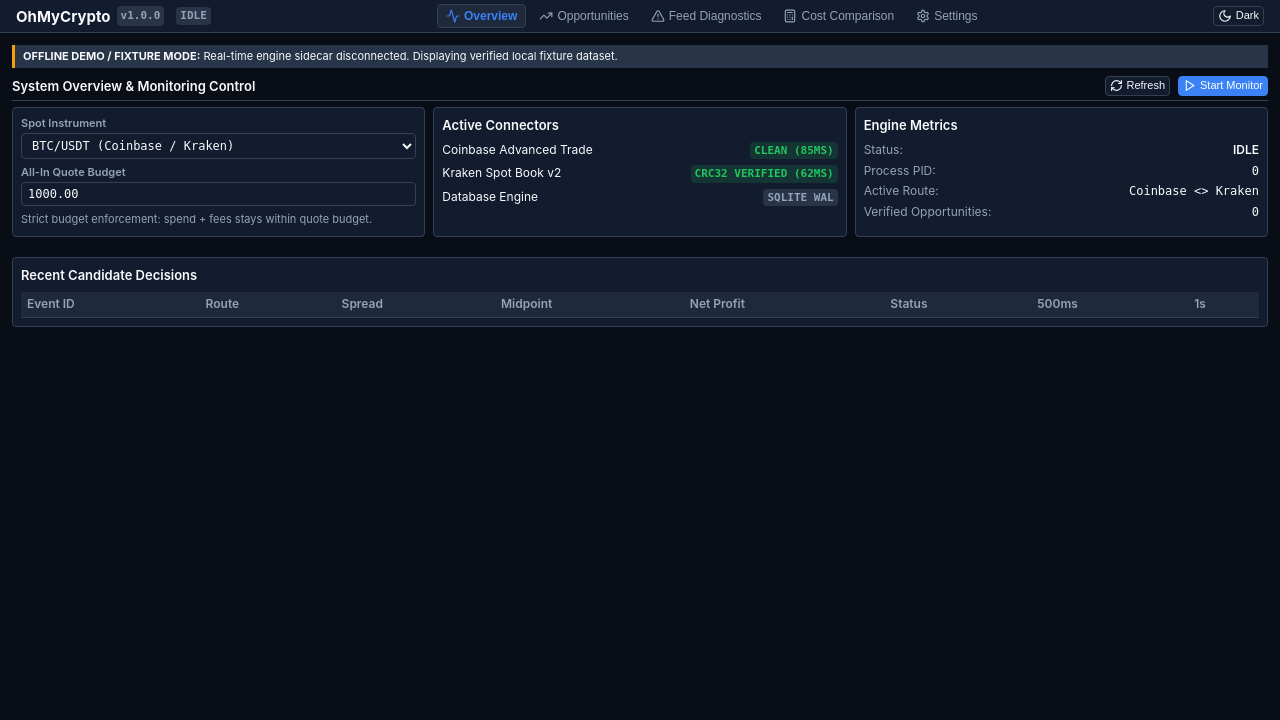
Test: OhMyCrypto Desktop UI › opens and closes the Deterministic Replay modal
The width and height of the screenshot is (1280, 720).
Click the button "Opportunities": {"x": 584, "y": 16} [530,4,638,28]
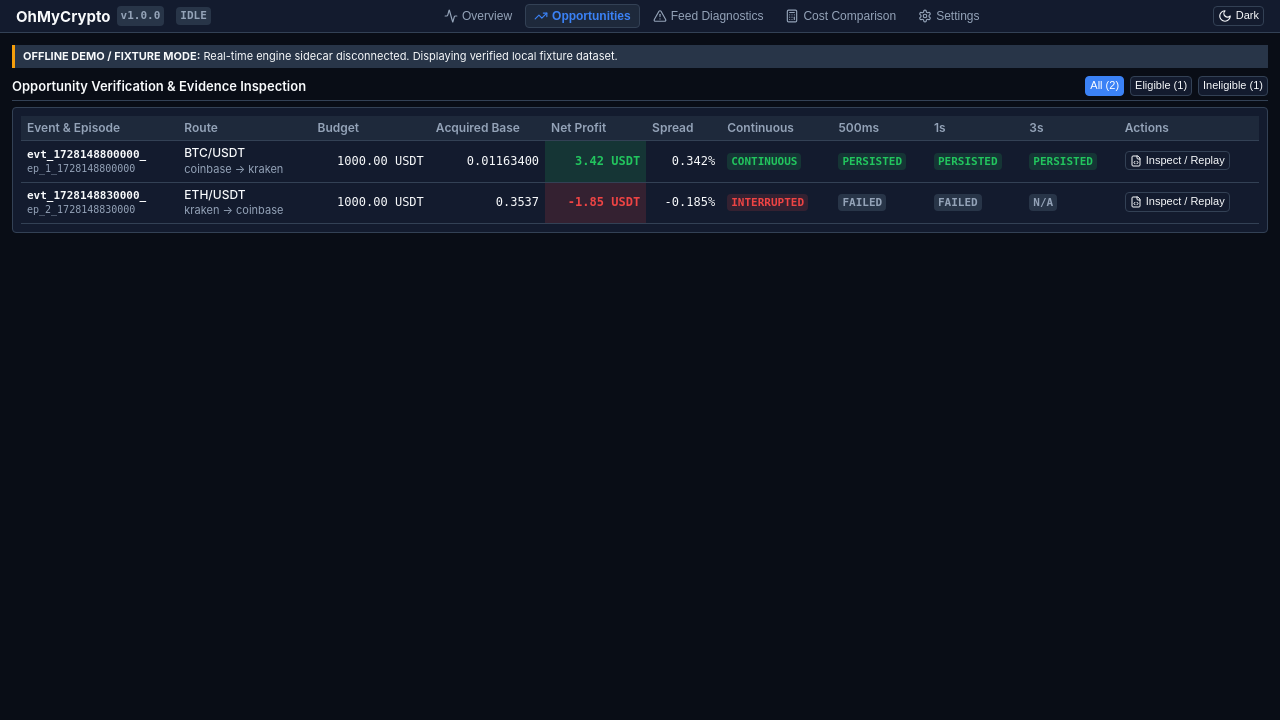
Result: the heading "Opportunity Verification & Evidence Inspection" is shown at [12,77,306,95]
Result: the text "BTC/USDT" is shown at [184,145,245,160]
Click the button "Inspect / Replay" in the row of "evt_1728148800000_": {"x": 1177, "y": 161} [1125,151,1230,170]
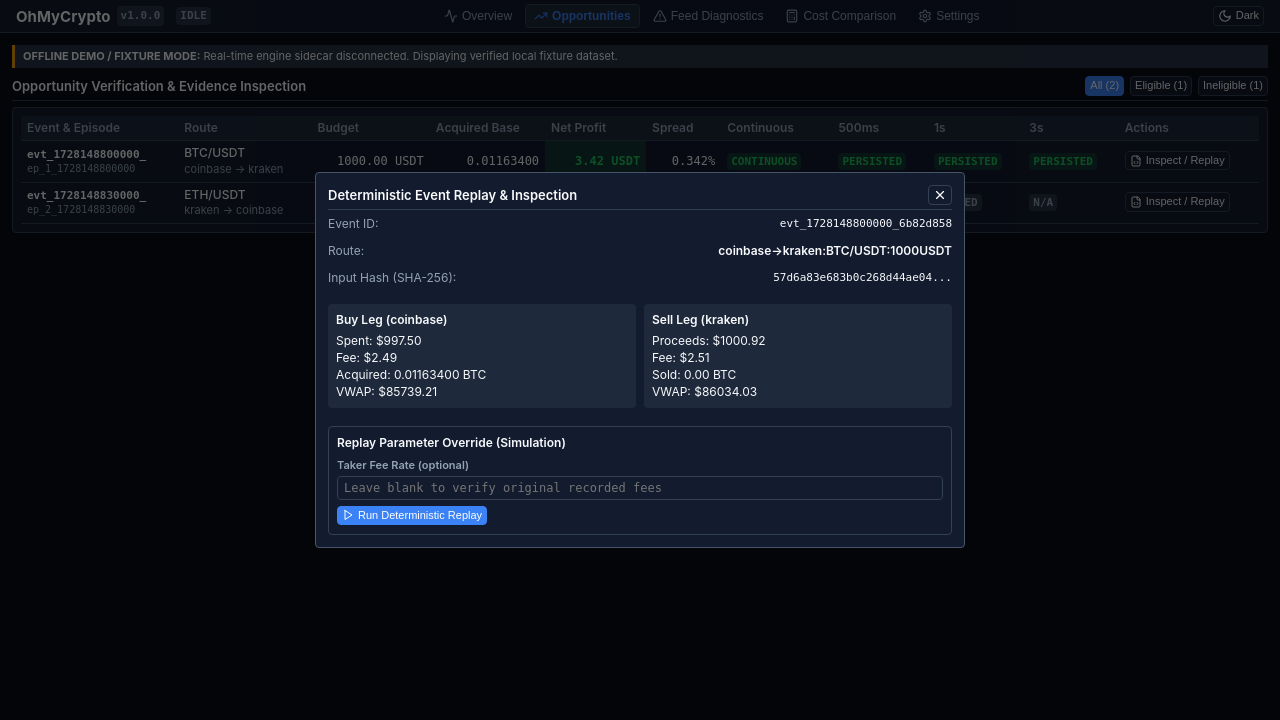
Result: the heading "Deterministic Event Replay & Inspection" is shown at [328,186,577,204]
Result: the text "Input Hash (SHA-256):" is shown at [328,270,456,286]
Click the button named "Close dialog": {"x": 940, "y": 195} [928,185,952,205]
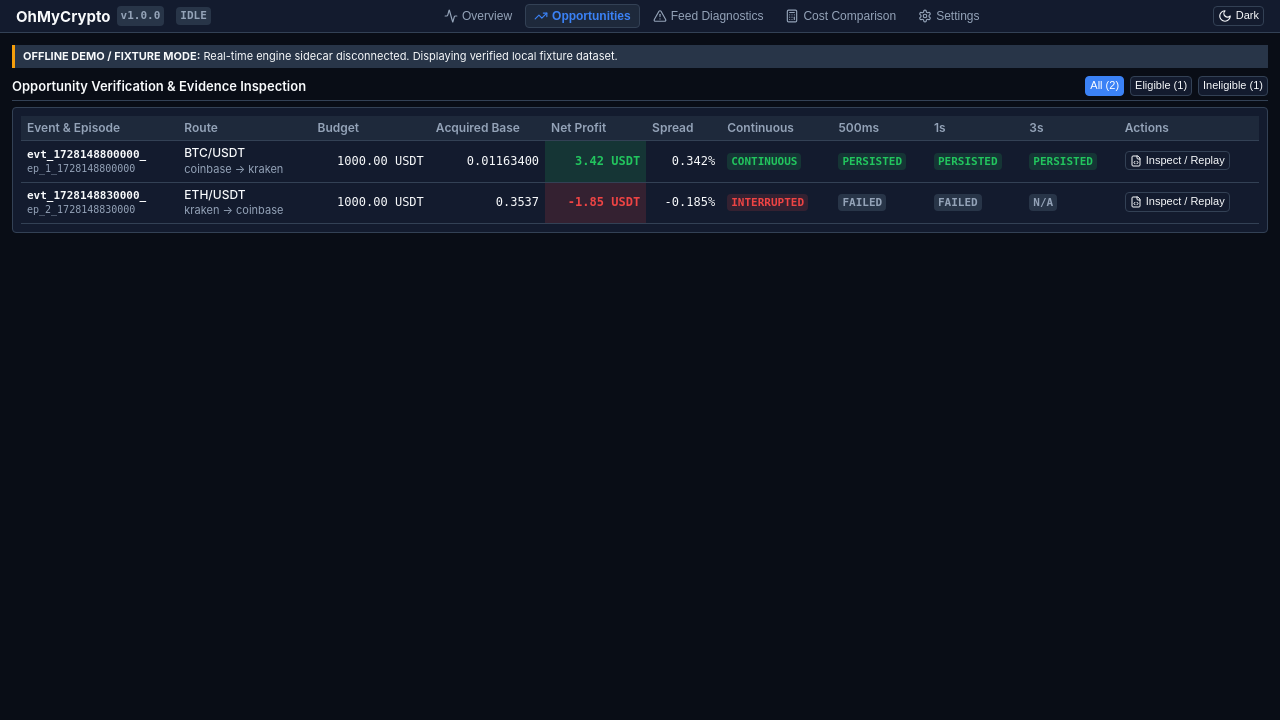
Result: the heading "Deterministic Event Replay & Inspection" is gone
